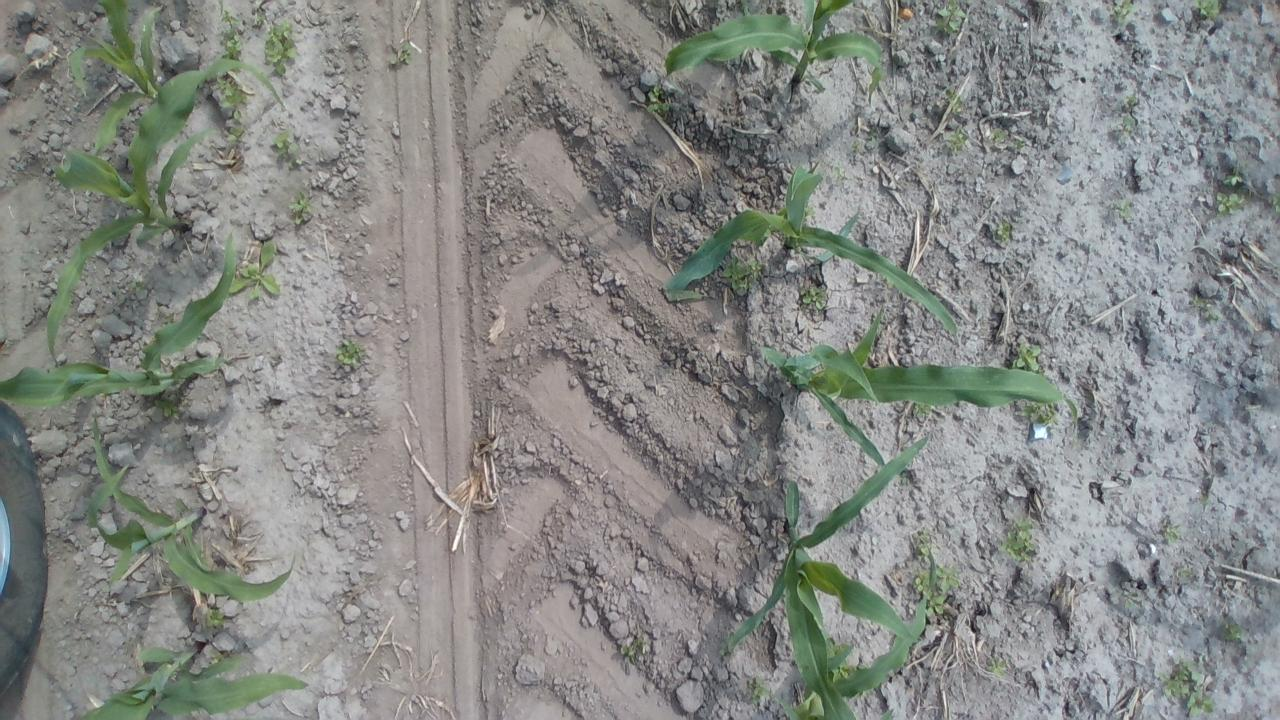Maize: (45, 60, 286, 368), (723, 430, 937, 720), (664, 168, 958, 345), (758, 306, 1076, 466), (0, 231, 237, 410), (84, 412, 298, 600), (780, 550, 938, 718), (664, 0, 887, 114), (75, 640, 311, 718), (68, 0, 162, 155)
Weeds: (1158, 655, 1218, 716), (230, 238, 282, 300), (214, 74, 253, 142), (912, 563, 962, 616), (263, 19, 299, 77), (718, 253, 768, 294), (998, 514, 1039, 564), (213, 9, 243, 61), (928, 0, 968, 35), (645, 81, 686, 115), (332, 335, 368, 371), (274, 129, 304, 169), (288, 187, 318, 226), (150, 390, 190, 419), (1018, 400, 1058, 427), (1188, 292, 1222, 322), (915, 524, 941, 562), (618, 633, 648, 664), (1011, 344, 1043, 373), (1215, 190, 1248, 216), (798, 282, 826, 312), (748, 674, 771, 704), (942, 128, 968, 154), (388, 39, 413, 66), (942, 86, 964, 116), (1220, 618, 1244, 645), (1110, 0, 1135, 25), (1192, 0, 1220, 18), (987, 656, 1009, 678), (994, 219, 1012, 243), (1114, 197, 1132, 221), (205, 607, 226, 627), (831, 661, 852, 681), (1223, 170, 1247, 187), (1162, 523, 1182, 543), (1121, 117, 1137, 137), (831, 162, 848, 180), (1122, 592, 1138, 610), (128, 278, 146, 294), (914, 402, 930, 418), (990, 127, 1006, 142), (250, 12, 267, 26), (113, 291, 130, 305), (1175, 566, 1191, 580), (1012, 138, 1026, 154), (866, 130, 879, 147), (1124, 95, 1138, 108), (804, 206, 814, 219), (1198, 494, 1210, 504)
